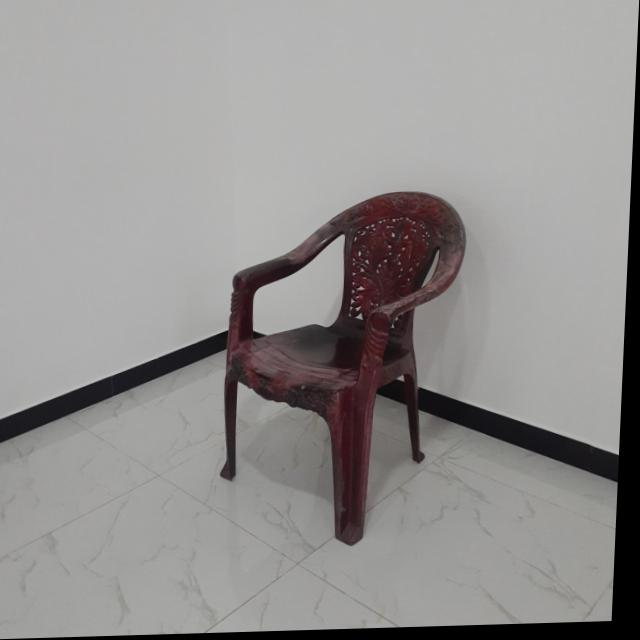Chair: (220, 191, 470, 552)
